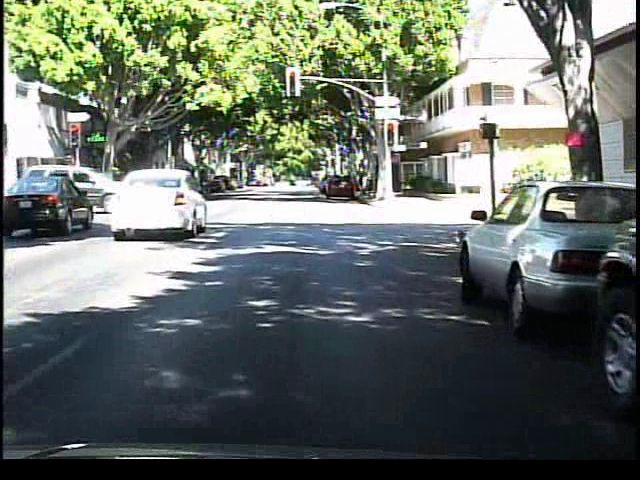person: (79, 164, 104, 208)
